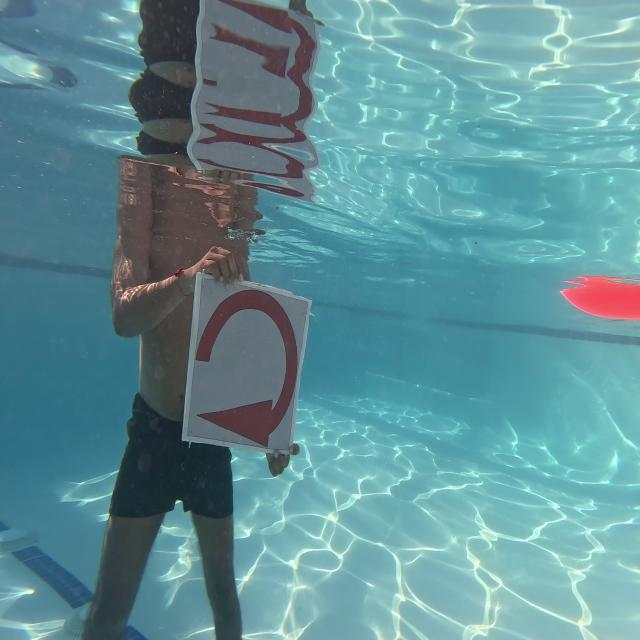red_side: (191, 278, 303, 453)
